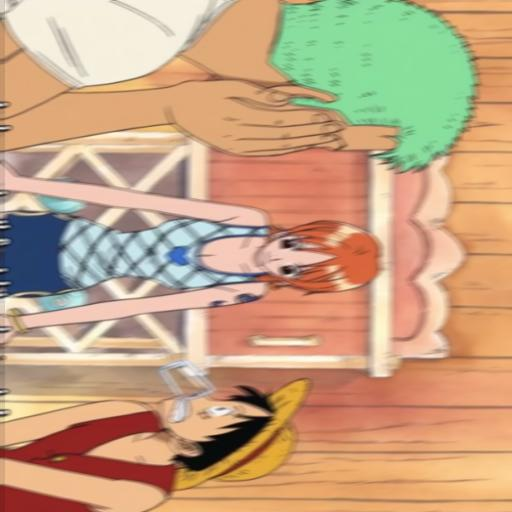Luffy: (0, 373, 315, 512)
Nami: (0, 174, 398, 347)
Zoro: (0, 0, 475, 172)
